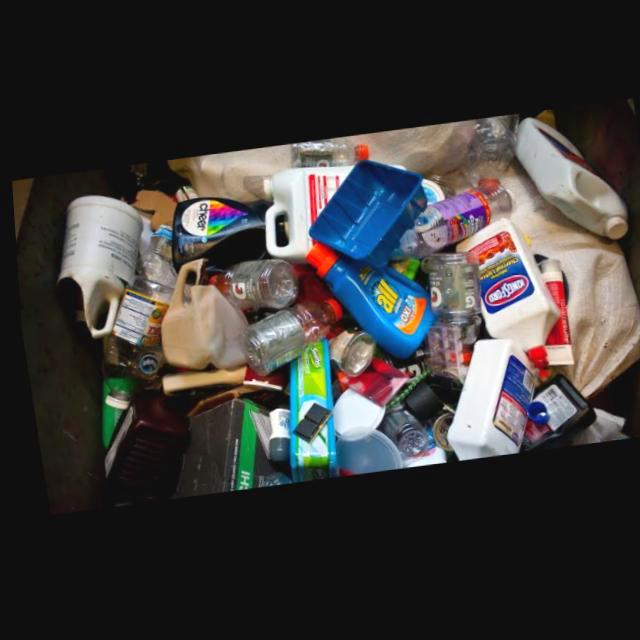plastic_bottle: (378, 180, 509, 267), (98, 223, 171, 378), (231, 298, 338, 377), (422, 255, 476, 365), (204, 260, 292, 310), (290, 141, 366, 169)
plastic_container: (451, 222, 553, 378), (301, 241, 430, 361), (514, 121, 624, 244), (304, 163, 424, 269), (54, 196, 141, 338), (439, 341, 533, 463), (155, 261, 246, 369), (260, 166, 351, 265), (167, 196, 268, 283), (513, 379, 591, 456), (422, 329, 458, 385)
